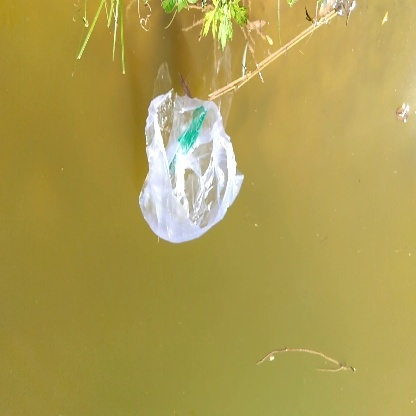plastic-bag: (135, 88, 249, 246)
